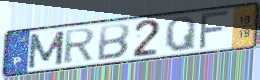2: (132, 18, 163, 59)
B: (95, 22, 132, 62)
F: (197, 9, 233, 52)
M: (26, 29, 67, 71)
Q: (164, 15, 198, 53)
R: (62, 27, 97, 66)
